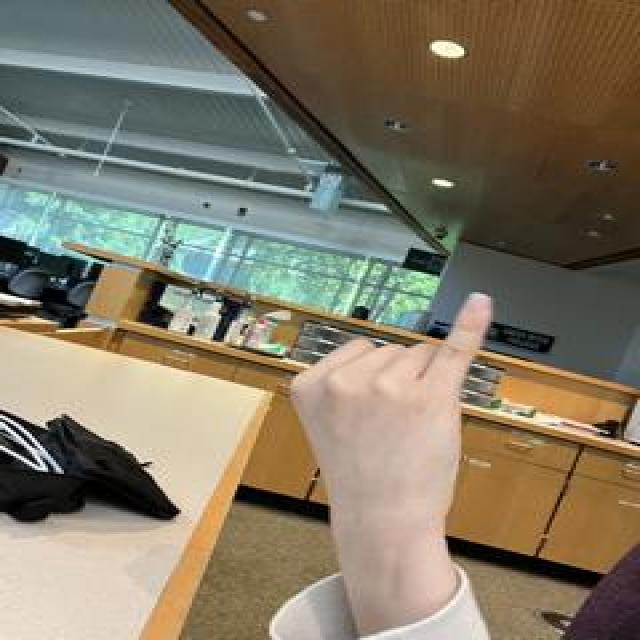I: (285, 289, 496, 529)
